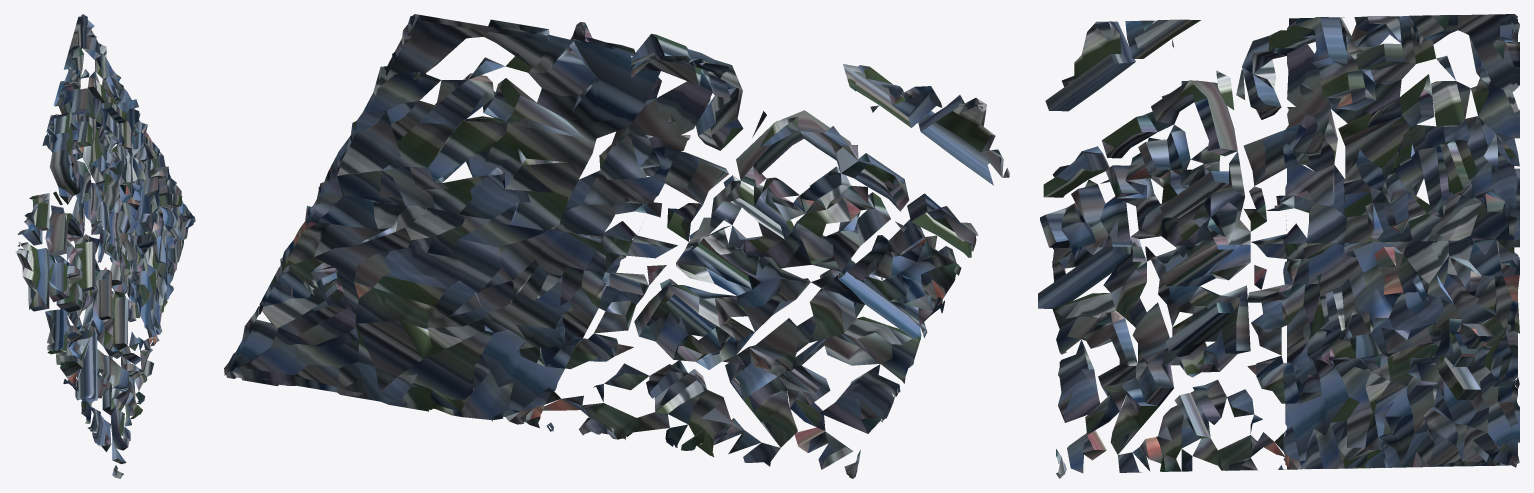
The picture shows the model from 3 angles, left to right: view 1: azimuth 30°, elevation 25°; view 2: azimuth 150°, elevation 25°; view 3: azimuth 270°, elevation 25°; orthographic projection. The views are drawn at different scales.
Parts seen in each view (by area): view 1: node_3043627270436143_mesh0, node_3043627270436143_mesh1; view 2: node_3043627270436143_mesh0, node_3043627270436143_mesh1; view 3: node_3043627270436143_mesh0, node_3043627270436143_mesh1.
Part boxes in pixels (left/top/right/bottom): node_3043627270436143_mesh0: left=15, top=14, right=195, bottom=478; node_3043627270436143_mesh1: left=31, top=29, right=194, bottom=451; node_3043627270436143_mesh0: left=224, top=14, right=1009, bottom=478; node_3043627270436143_mesh1: left=230, top=14, right=975, bottom=452; node_3043627270436143_mesh0: left=1038, top=14, right=1519, bottom=478; node_3043627270436143_mesh1: left=1049, top=15, right=1519, bottom=471.
Bounding box in the file's own units: 546 × 583 × 466.
Materials: 2 (2 with a texture image).
